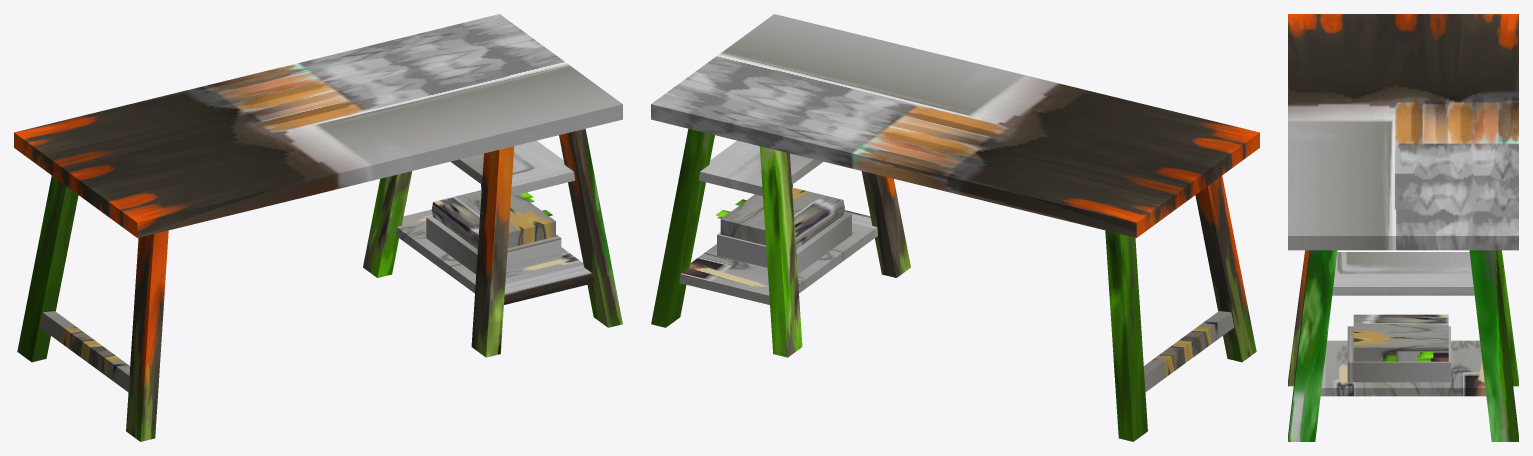
File: escritorio_textura.fbx
The picture shows the model from 3 angles, left to right: view 1: azimuth 30°, elevation 25°; view 2: azimuth 150°, elevation 25°; view 3: azimuth 270°, elevation 25°; orthographic projection. The views are drawn at different scales.
Parts seen in each view (by area): view 1: s4studio_mesh_0; view 2: s4studio_mesh_0; view 3: s4studio_mesh_0.
Boxes of the visible parts, x1=… form: s4studio_mesh_0: x1=14, y1=14, x2=622, y2=441; s4studio_mesh_0: x1=651, y1=14, x2=1259, y2=441; s4studio_mesh_0: x1=1288, y1=14, x2=1518, y2=441.
Size of the model in its own units: 185 by 80 by 81.19.
